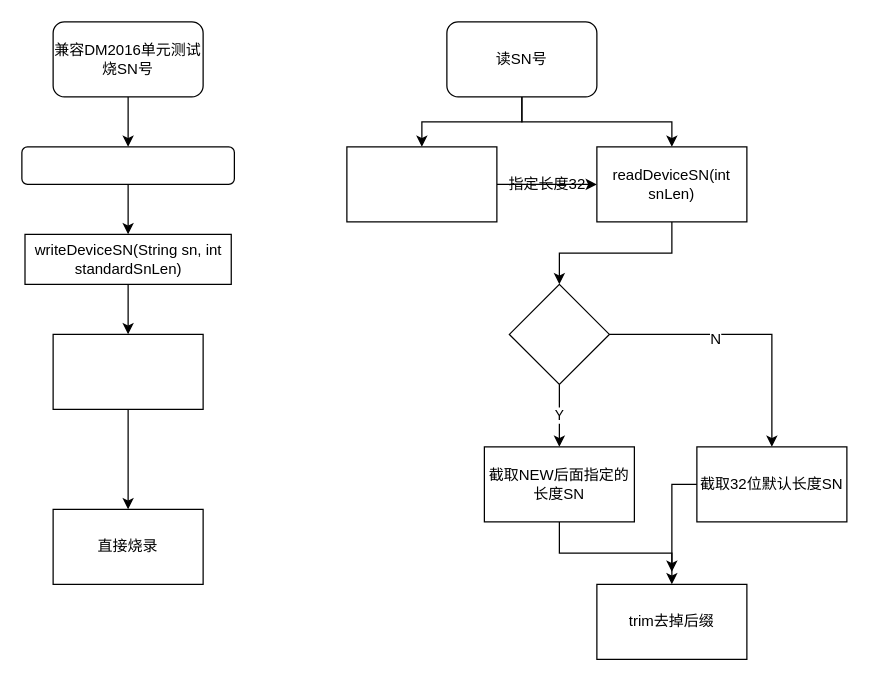
The diagram is 869 pixels wide and 681 high, and some of its shapes have lost their labels. Here are the shapes that lost their labels. From the top down, the centre of each, then its label:
At (127,165): "writeDeviceSN(String sn)".
At (421,184): "readDeviceSN()".
At (558,333): "开头是否以NEW+长度".
At (127,371): "getValidSN(String sn) 超过法定长度32直接截取32位SN，小于32位不处理".
